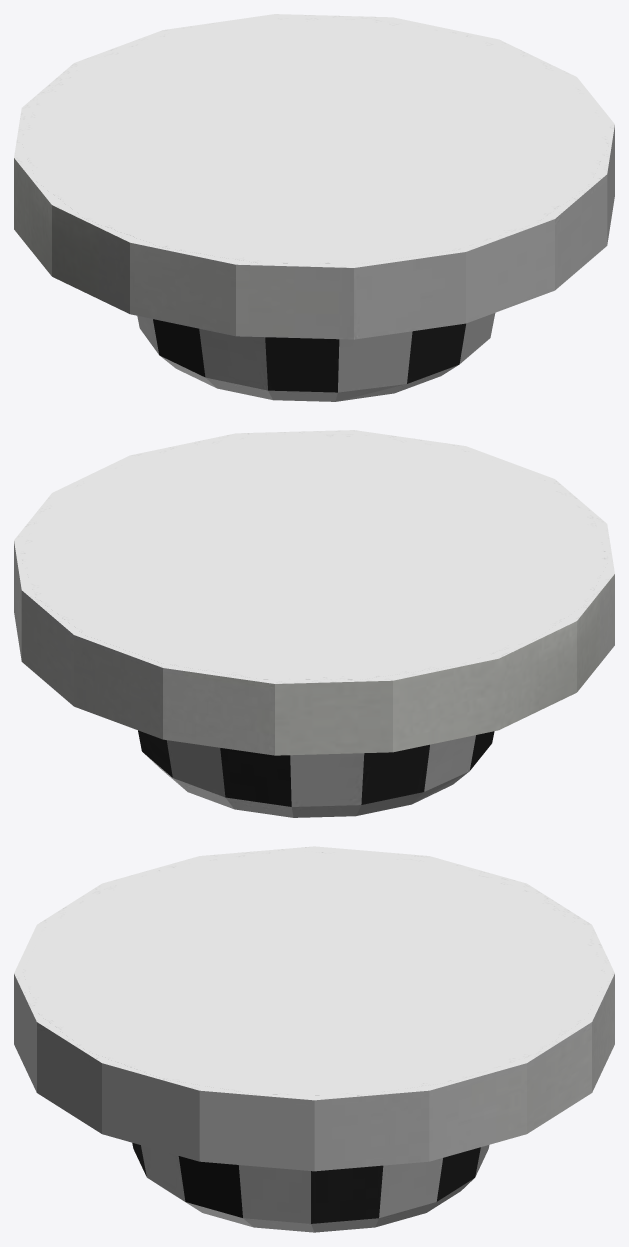
The model's file is yangan.obj.
3 renders of one model, top to bottom at view 1: azimuth 30°, elevation 25°; view 2: azimuth 150°, elevation 25°; view 3: azimuth 270°, elevation 25°, orthographic.
Parts seen in each view (by area): view 1: Line04; view 2: Line04; view 3: Line04.
Boxes of the visible parts, <box> form: Line04: <box>14,14,614,401</box>; Line04: <box>14,430,614,817</box>; Line04: <box>14,846,614,1232</box>.
Bounding box in the file's own units: 33.51 × 11.83 × 33.51.
1 material, 1 textured.
